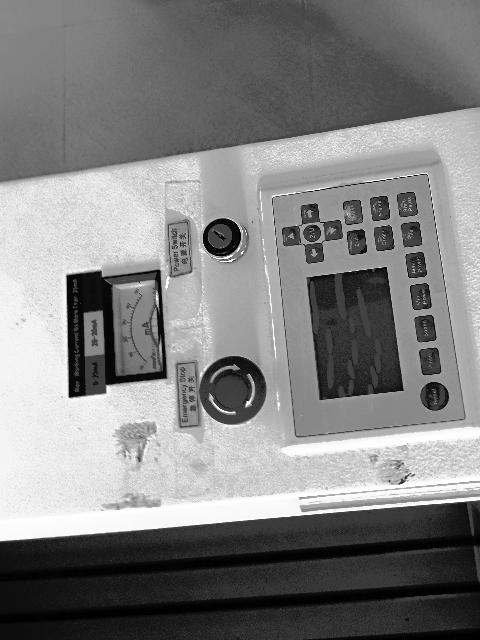Amp_Meter: (106, 273, 163, 376)
Display: (308, 268, 403, 400)
Down_button: (324, 220, 343, 240)
Emergency_Stop: (200, 356, 267, 425)
Enter_button: (343, 200, 363, 225)
Esc_button: (347, 229, 367, 255)
File_button: (402, 222, 422, 247)
Frame_button: (370, 196, 390, 221)
Left_button: (301, 204, 319, 224)
Max-Power_button: (406, 252, 427, 278)
Min-Power_button: (410, 283, 431, 310)
Origin_button: (374, 226, 394, 251)
Power_switch: (203, 218, 248, 263)
Pulse_button: (419, 348, 441, 375)
Reset_button: (421, 382, 448, 411)
Right_button: (305, 243, 324, 263)
Speed_button: (415, 315, 436, 342)
Start-Pause_button: (397, 192, 418, 217)
Up_button: (282, 226, 300, 246)
Z_U_button: (303, 225, 321, 242)
